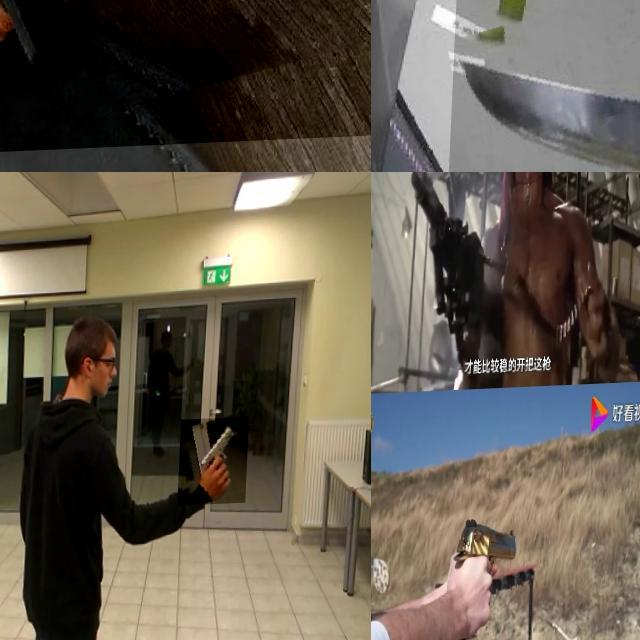-: (0, 0, 371, 172), (453, 0, 640, 172)
gun-knife-thesis - v11 Yolov5 augmented: (395, 172, 487, 361), (454, 512, 523, 640), (181, 422, 252, 509), (371, 196, 416, 280), (371, 568, 396, 640)
